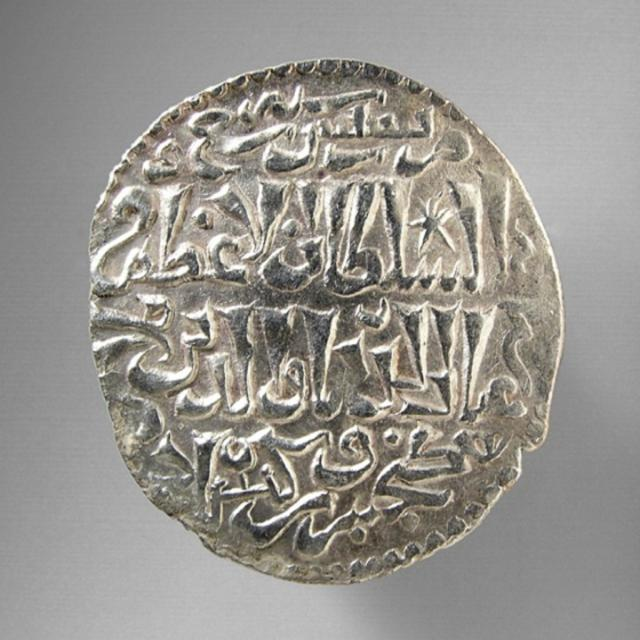Coin: (86, 55, 567, 587)
